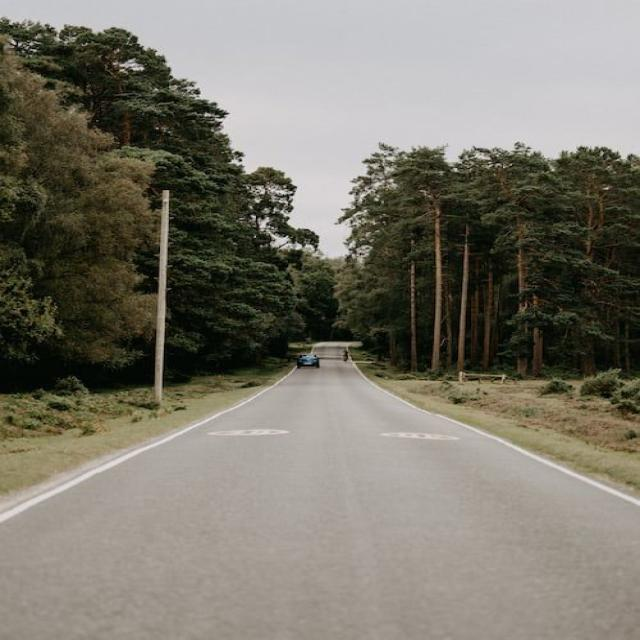asphalt: (0, 361, 639, 639)
